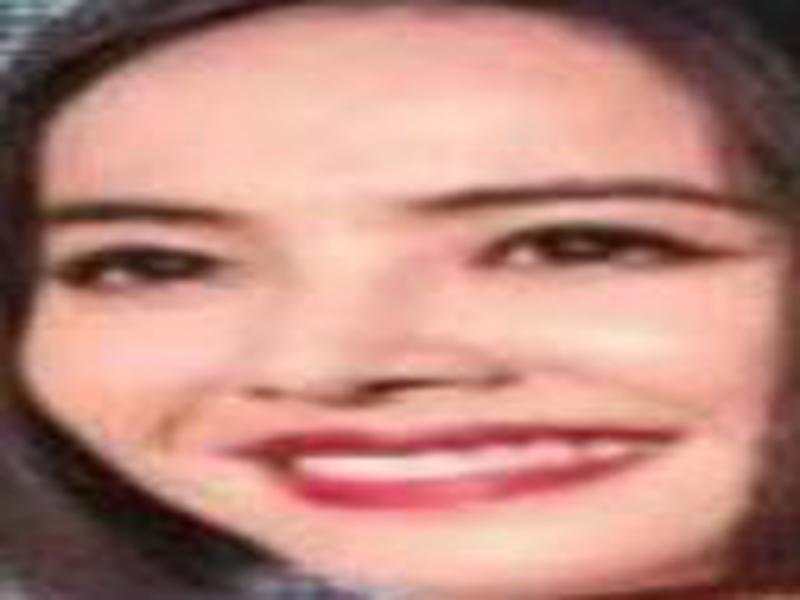without_mask: (19, 93, 787, 591)
